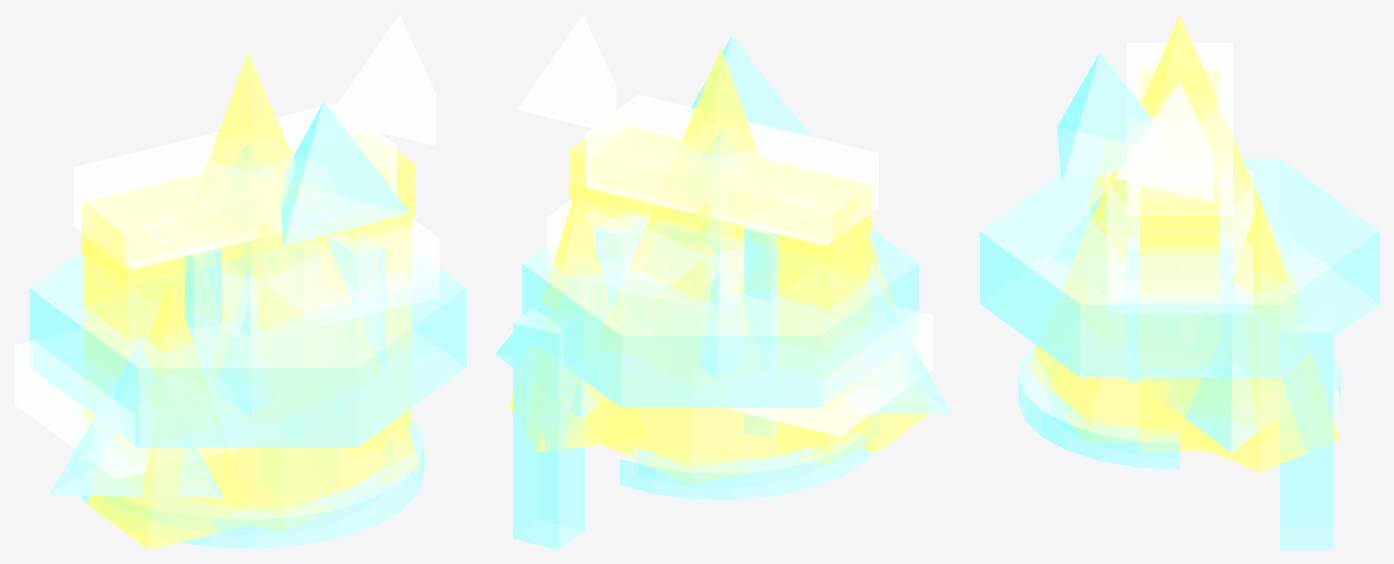
Rendered from category-landmarks.glb.
The picture shows the model from 3 angles, left to right: view 1: azimuth 30°, elevation 25°; view 2: azimuth 150°, elevation 25°; view 3: azimuth 270°, elevation 25°; orthographic projection. The views are drawn at different scales.
Visible parts, largest first — view 1: LandmarkRev, LandmarkCrypto, LandmarkPwn, LandmarkWeb, LandmarkMisc, LandmarkForensics; view 2: LandmarkRev, LandmarkCrypto, LandmarkPwn, LandmarkWeb, LandmarkForensics, LandmarkMisc; view 3: LandmarkCrypto, LandmarkPwn, LandmarkRev, LandmarkForensics, LandmarkWeb, LandmarkMisc.
Boxes of the visible parts, box(x1,y1,x2,y2) form: LandmarkRev: box(14, 14, 439, 478); LandmarkCrypto: box(29, 230, 466, 447); LandmarkPwn: box(86, 51, 421, 549); LandmarkWeb: box(81, 132, 414, 454); LandmarkMisc: box(49, 102, 410, 498); LandmarkForensics: box(72, 242, 424, 548); LandmarkRev: box(517, 14, 933, 436); LandmarkCrypto: box(522, 211, 919, 438); LandmarkPwn: box(509, 48, 929, 484); LandmarkWeb: box(569, 123, 872, 464); LandmarkForensics: box(513, 221, 880, 549); LandmarkMisc: box(495, 36, 951, 418); LandmarkCrypto: box(980, 128, 1379, 382); LandmarkPwn: box(1028, 14, 1339, 472); LandmarkRev: box(1087, 43, 1272, 313); LandmarkForensics: box(1018, 310, 1340, 549); LandmarkWeb: box(1140, 70, 1219, 451); LandmarkMisc: box(1052, 52, 1307, 452).
Size of the model in its own units: 0.7099 by 0.78 by 0.6.
